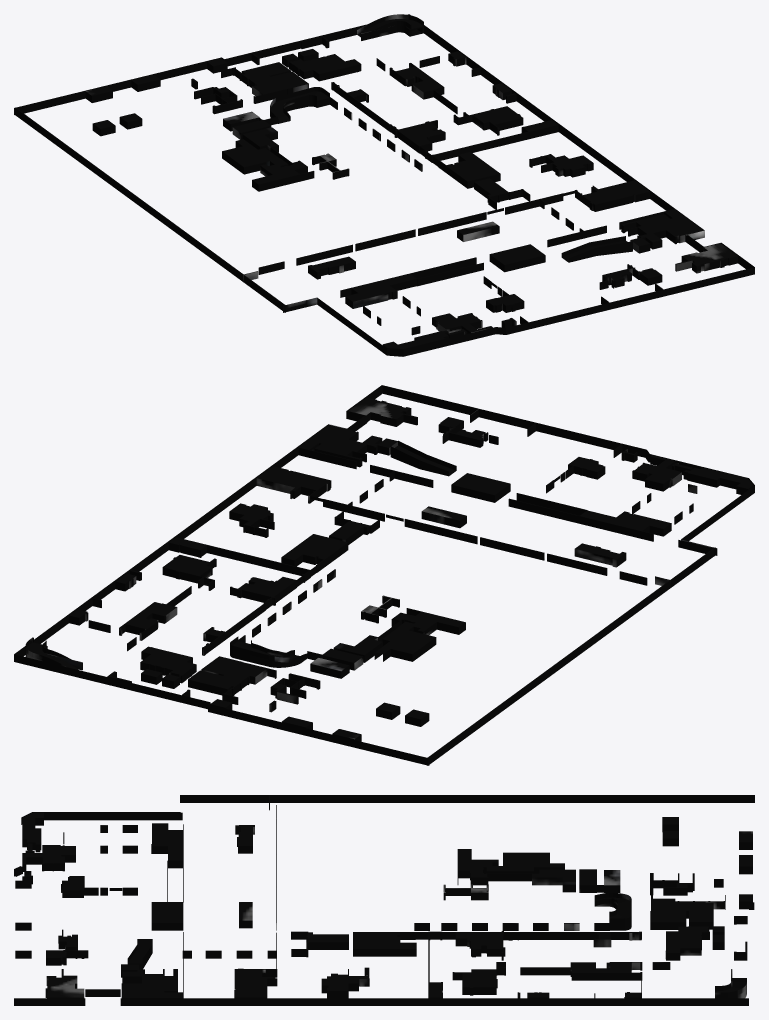
The model's file is B2qiang.obj.
The picture shows the model from 3 angles, top to bottom: view 1: azimuth 30°, elevation 25°; view 2: azimuth 150°, elevation 25°; view 3: azimuth 270°, elevation 25°; orthographic projection. The views are drawn at different scales.
Visible parts, largest first — view 1: B2qiang; view 2: B2qiang; view 3: B2qiang.
Boxes of the visible parts, <box> form: B2qiang: <box>14,14,754,356</box>; B2qiang: <box>14,385,754,765</box>; B2qiang: <box>14,795,754,1005</box>.
Size of the model in its own units: 274 by 7.78 by 421.
